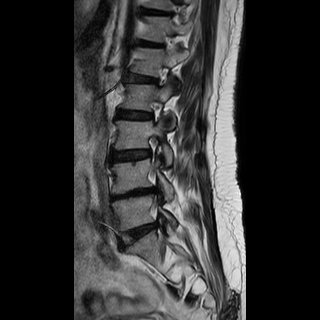RFS0: (144, 95, 168, 129), (150, 62, 171, 92)
